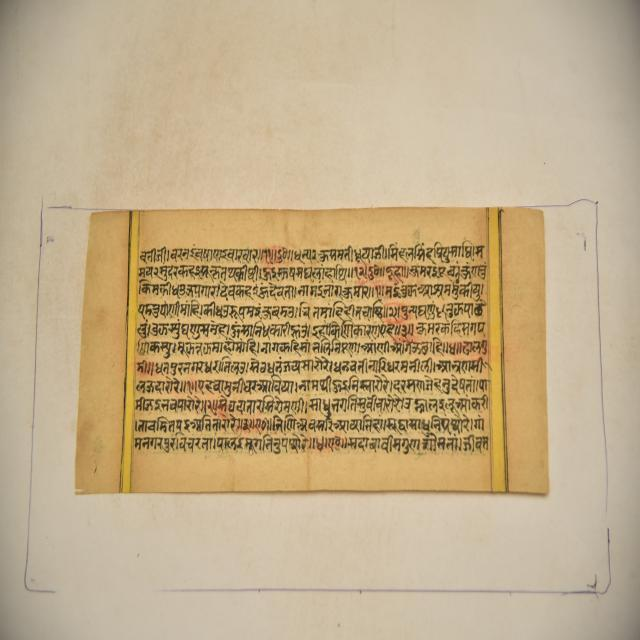text_paragraph: (75, 208, 547, 495)
